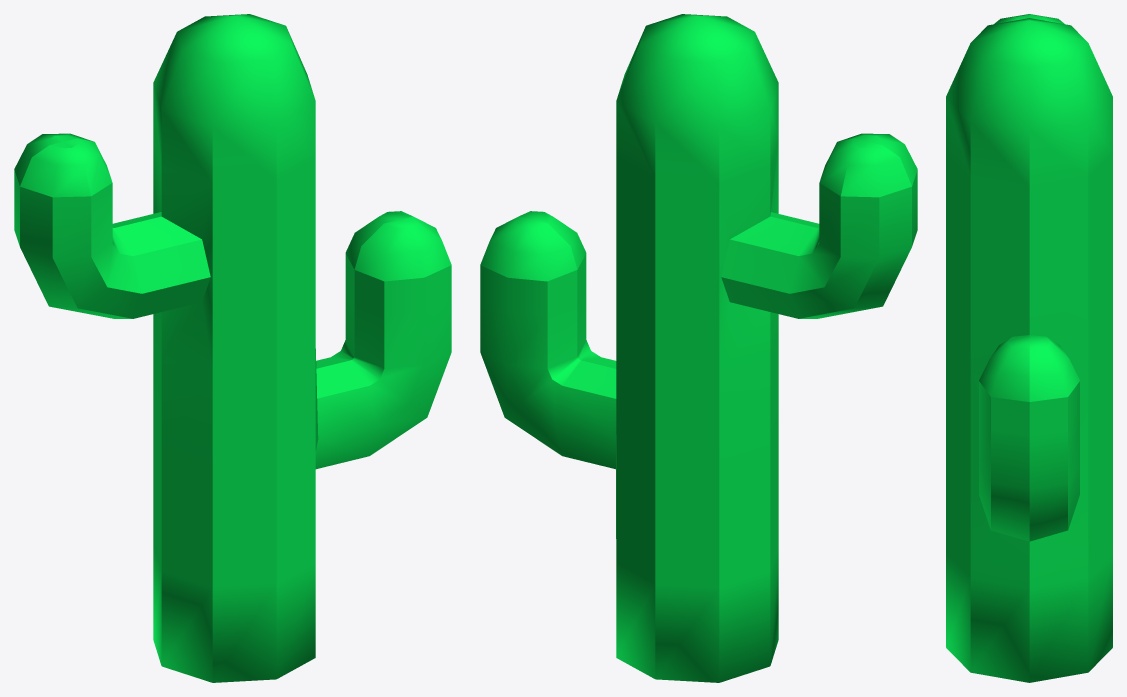
The model's file is cactus.fbx.
The picture shows the model from 3 angles, left to right: view 1: azimuth 30°, elevation 25°; view 2: azimuth 150°, elevation 25°; view 3: azimuth 270°, elevation 25°; orthographic projection.
Parts seen in each view (by area): view 1: cactus; view 2: cactus; view 3: cactus.
Boxes of the visible parts, x1,y1,x2,y2 form: cactus: (14,14,451,682); cactus: (480,14,917,682); cactus: (946,14,1112,682).
Bounding box in the file's own units: 17.4 × 24.87 × 6.
